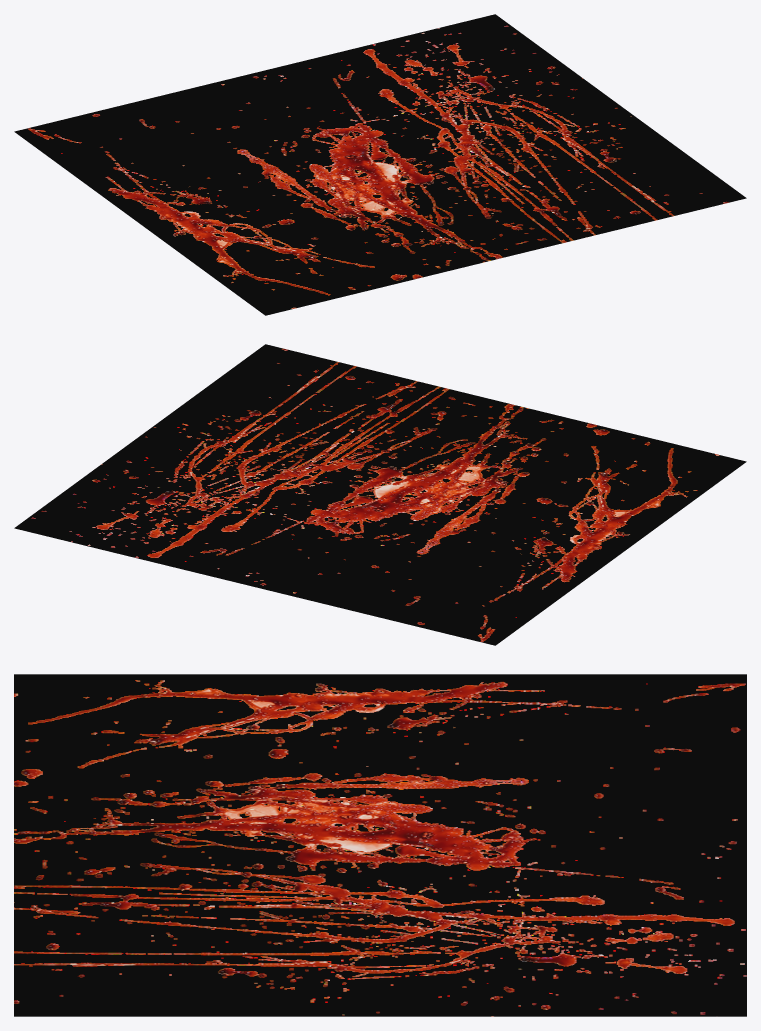
The model's file is eclaboussure_sang.fbx.
3 renders of one model, top to bottom at view 1: azimuth 30°, elevation 25°; view 2: azimuth 150°, elevation 25°; view 3: azimuth 270°, elevation 25°, orthographic. The views are drawn at different scales.
Visible parts, largest first — view 1: pasted__eclaboussure_02; view 2: pasted__eclaboussure_02; view 3: pasted__eclaboussure_02.
Boxes of the visible parts, x1,y1,x2,y2 form: pasted__eclaboussure_02: (14, 14, 746, 315); pasted__eclaboussure_02: (14, 344, 746, 645); pasted__eclaboussure_02: (14, 674, 746, 1016).
Bounding box in the file's own units: 32.76 × 6.41e-15 × 29.65.
1 material, 1 textured.
